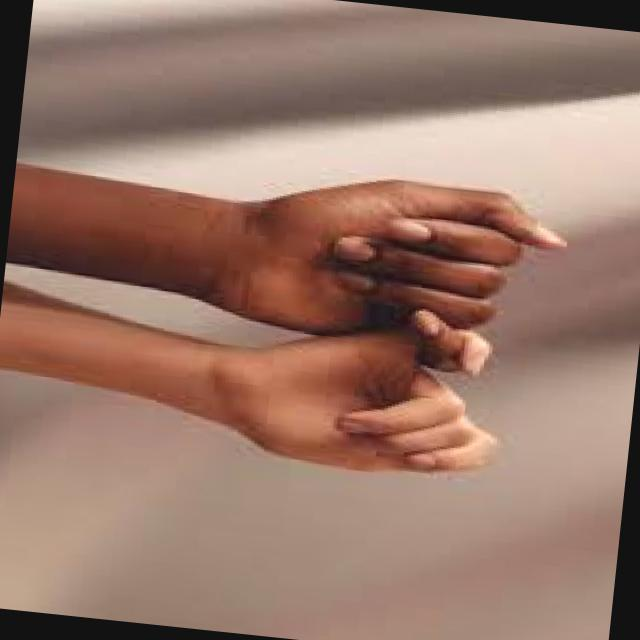Hand: (193, 148, 582, 384), (199, 302, 520, 492)
